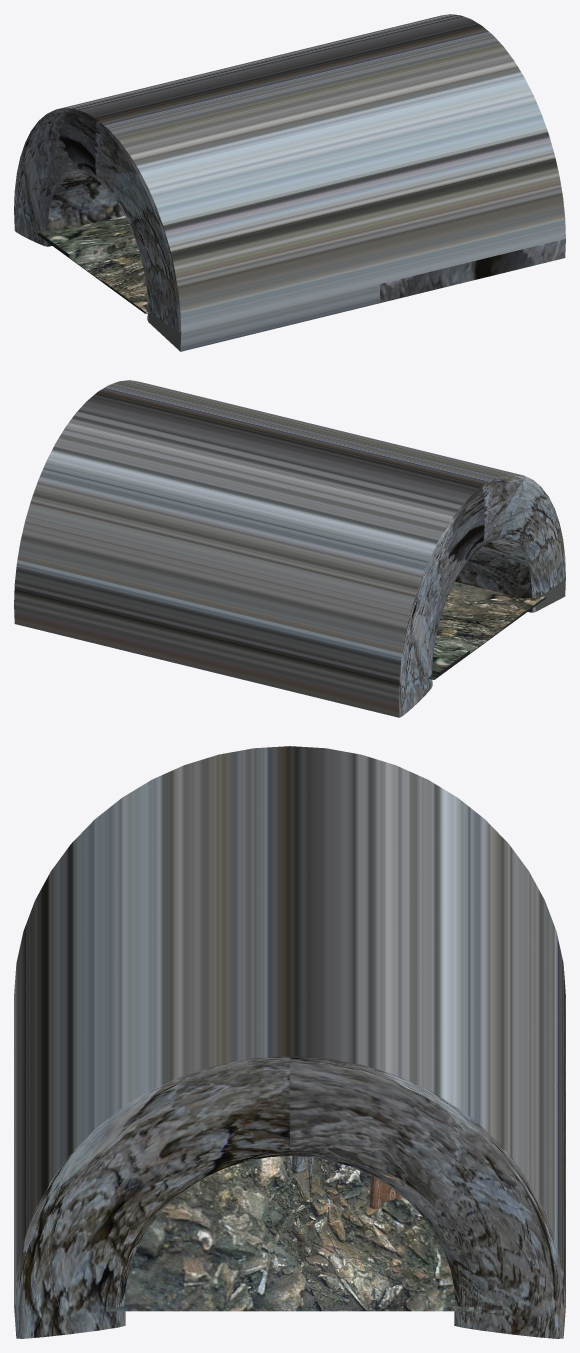
File: cuevabeta2.fbx
3 renders of one model, top to bottom at view 1: azimuth 30°, elevation 25°; view 2: azimuth 150°, elevation 25°; view 3: azimuth 270°, elevation 25°, orthographic. The views are drawn at different scales.
Visible parts, largest first — view 1: Torus, Plano; view 2: Torus, Plano; view 3: Torus, Plano.
Boxes of the visible parts, bbox=[...] form: Torus: bbox=[14, 14, 565, 351]; Plano: bbox=[34, 216, 151, 313]; Torus: bbox=[14, 380, 565, 717]; Plano: bbox=[428, 582, 545, 679]; Torus: bbox=[14, 746, 565, 1338]; Plano: bbox=[106, 1156, 473, 1311].
Size of the model in its own units: 4132 by 1696 by 3000.
43 materials, 43 textured.
